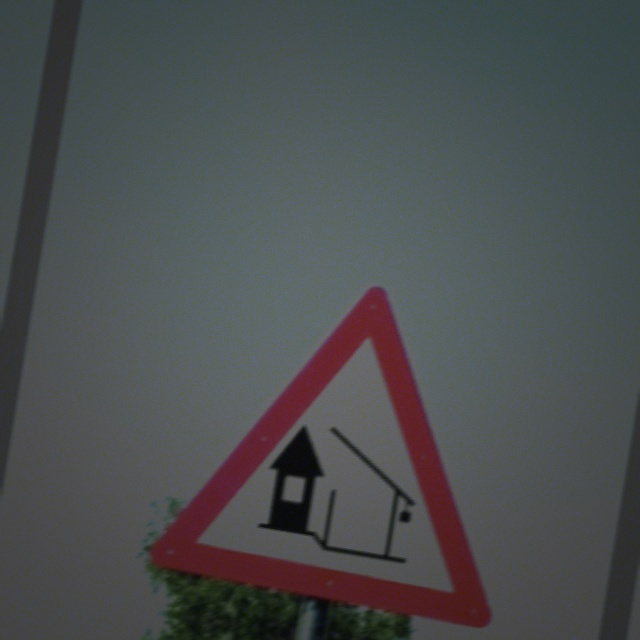Barrier_Ahead: (145, 259, 544, 630)
